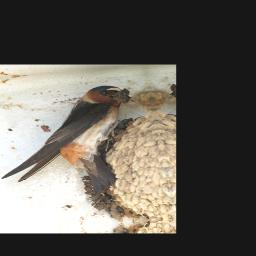Swallow: (0, 83, 146, 185)
